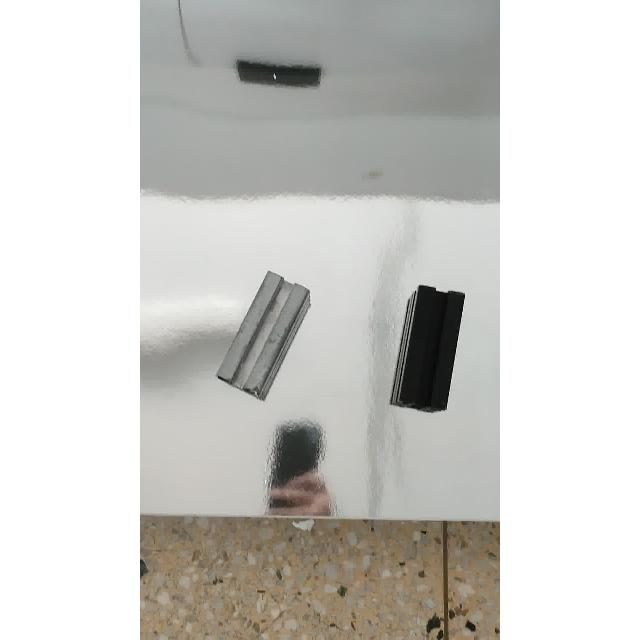S40_40_B: (388, 284, 466, 416)
S40_40_G: (214, 268, 314, 404)
